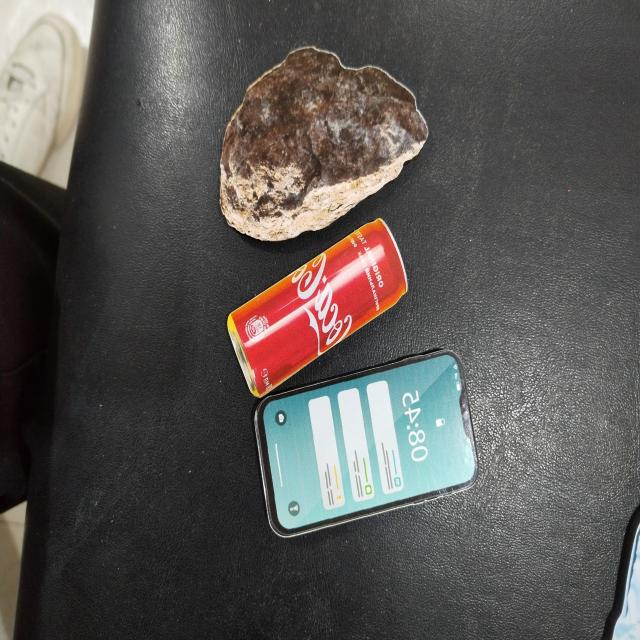Other Objects: (188, 0, 436, 281), (251, 344, 481, 542), (223, 211, 415, 402)
